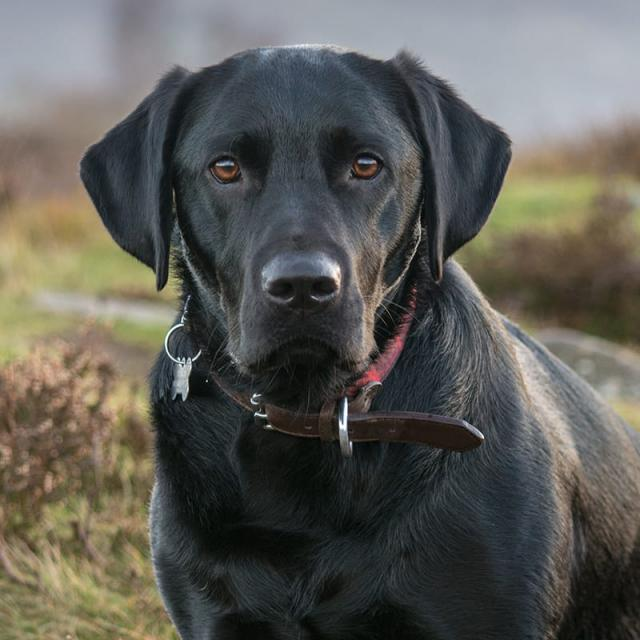eye: (342, 147, 391, 188), (207, 151, 250, 191)
